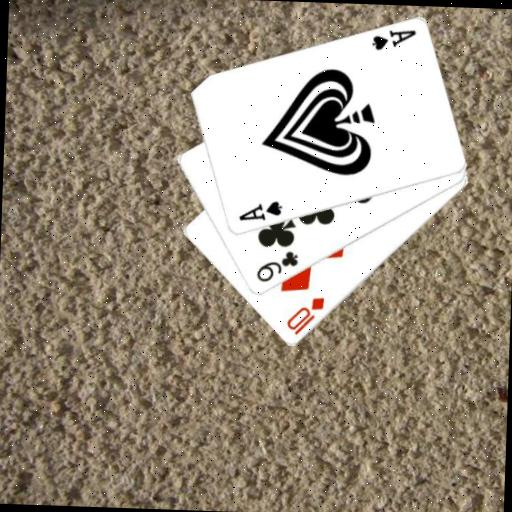10D: (283, 292, 326, 337)
9C: (253, 246, 300, 285)
AS: (367, 25, 418, 53), (235, 197, 283, 224)
